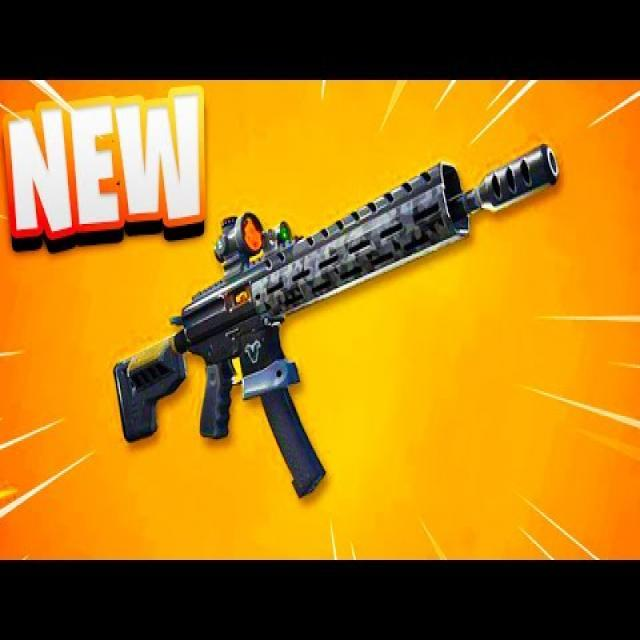weapon: (112, 131, 566, 498)
